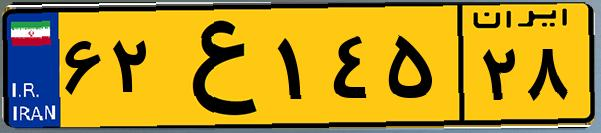1: (270, 28, 330, 110)
2: (475, 38, 525, 113), (110, 28, 158, 98)
4: (330, 28, 385, 110)
5: (385, 28, 445, 110)
6: (57, 26, 110, 100)
8: (525, 38, 570, 115)
ع: (158, 12, 270, 120)
